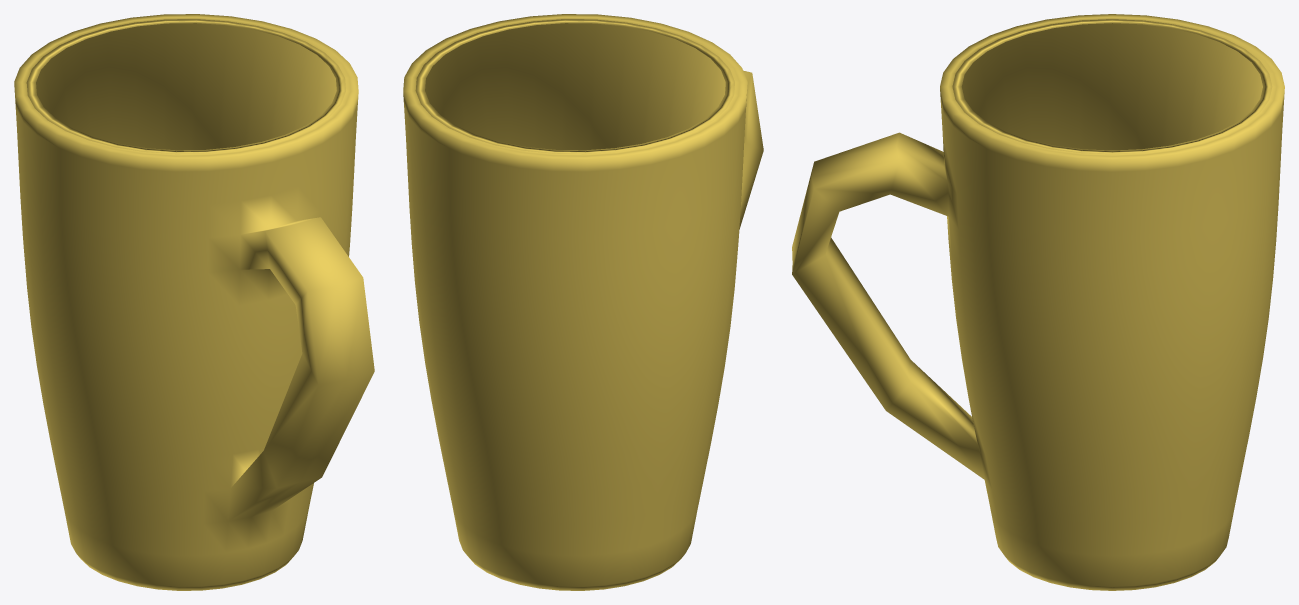
File: goldeneTasse800.glb
3 views of the same model, side by side, from view 1: azimuth 30°, elevation 25°; view 2: azimuth 150°, elevation 25°; view 3: azimuth 270°, elevation 25° (orthographic).
Visible parts, largest first — view 1: Cup; view 2: Cup; view 3: Cup.
Part boxes in pixels (bbox=[...]): Cup: bbox=[14, 14, 374, 590]; Cup: bbox=[403, 14, 763, 590]; Cup: bbox=[792, 14, 1284, 590].
Size of the model in its own units: 2.37 by 3.47 by 3.39.
